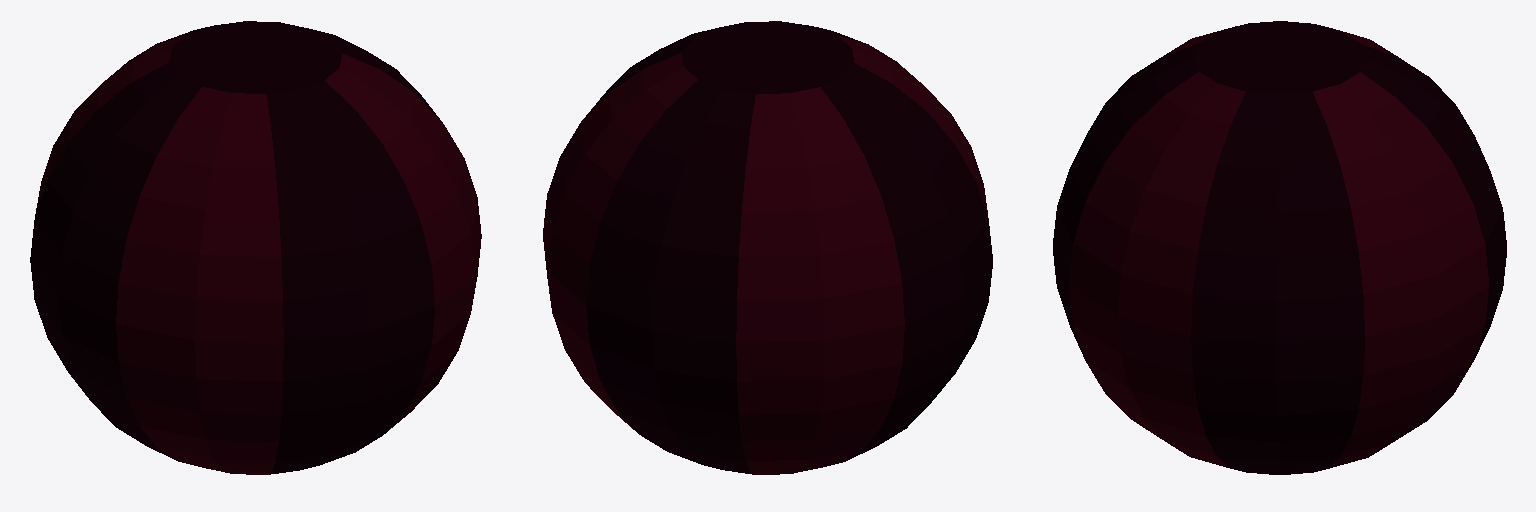
Rendered from joystickball(F225).obj.
3 renders of one model, left to right at view 1: azimuth 30°, elevation 25°; view 2: azimuth 150°, elevation 25°; view 3: azimuth 270°, elevation 25°, orthographic.
Visible parts, largest first — view 1: Sphere.001; view 2: Sphere.001; view 3: Sphere.001.
Boxes of the visible parts, x1=… form: Sphere.001: x1=30, y1=21, x2=481, y2=474; Sphere.001: x1=543, y1=21, x2=992, y2=474; Sphere.001: x1=1053, y1=21, x2=1506, y2=474.
Bounding box in the file's own units: 0.8752 × 0.8419 × 0.8752.